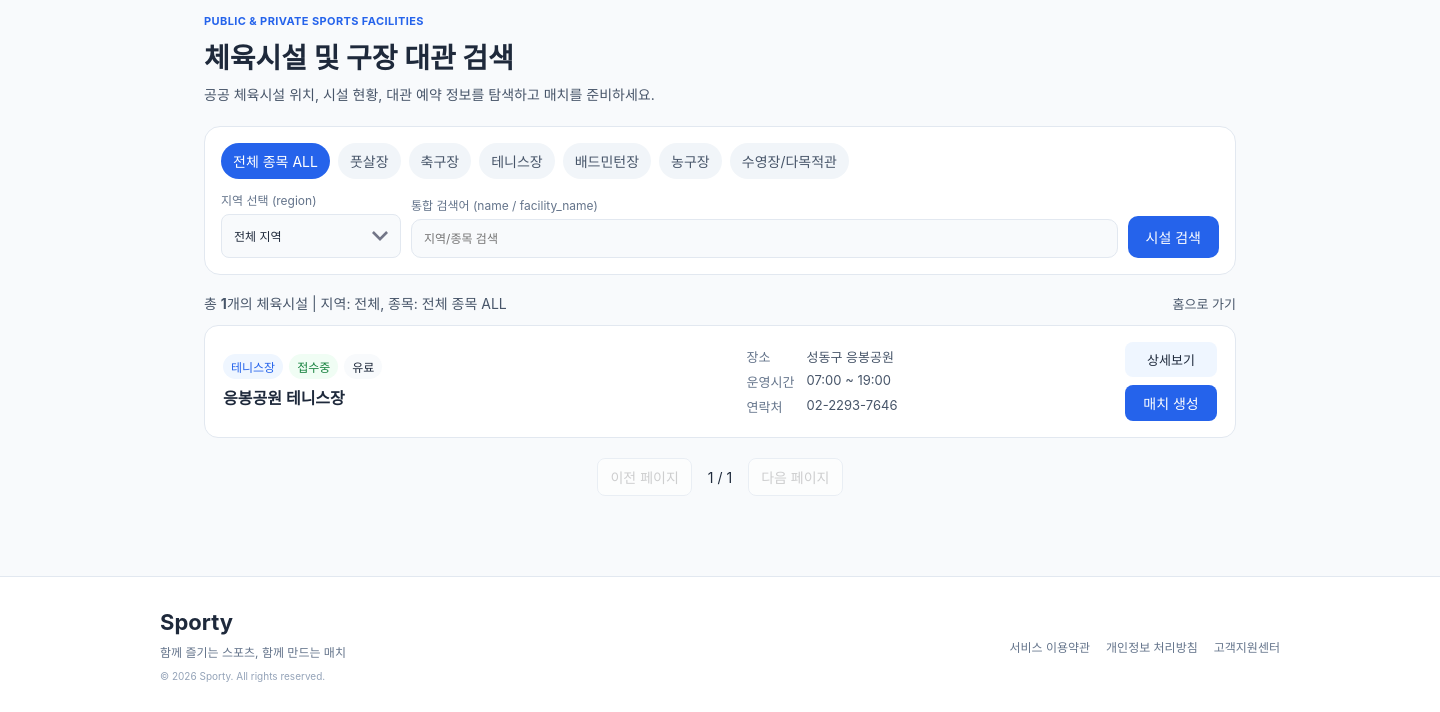
Test: 로그인 후 목록의 매치 생성은 해당 시설이 선택된 개설 화면으로 이동한다
The image size is (1440, 712).
Step 1. Click the button "매치 생성" → (1171,403), box [1125,385,1217,421]
(page scrolled)
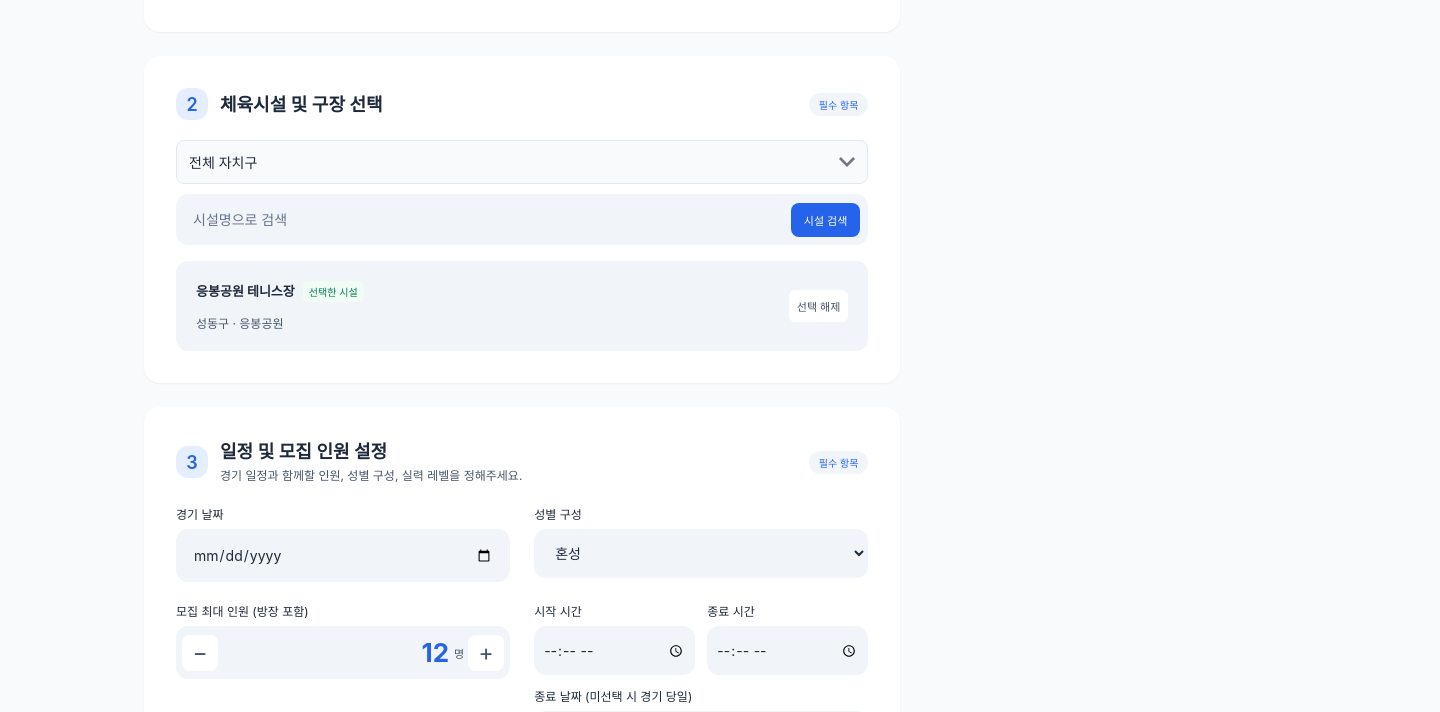
Check: the text "응봉공원 테니스장" is shown, box [196,283,295,299]
Check: the text "선택한 시설" is shown, box [303,281,364,302]
Check: the text "성동구 · 응봉공원" is shown, box [196,316,284,331]
